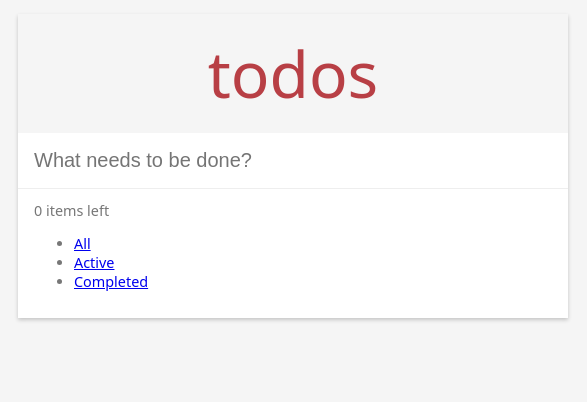
Test: Enter adds a todo, clears input and shows it
In the field with placeholder "What needs to be done?": x=293, y=161 [18, 133, 568, 189], type "Buy milk"
Then press Enter
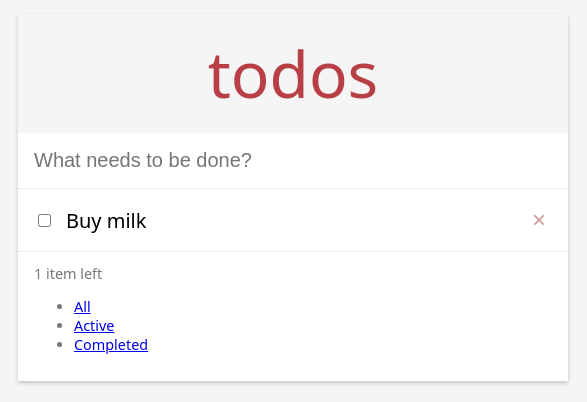
Now the text "Buy milk" is shown, box [66, 206, 146, 234]
Now the text "1 item left" is shown, box [34, 264, 102, 283]
